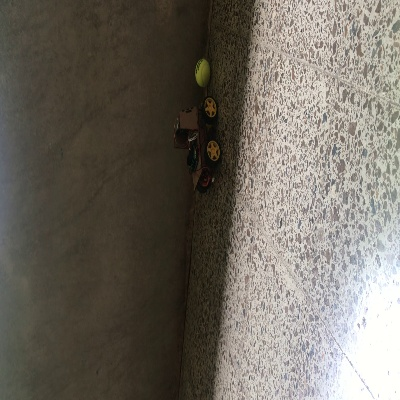Ball: (194, 58, 209, 84)
Robot: (173, 97, 222, 193)
